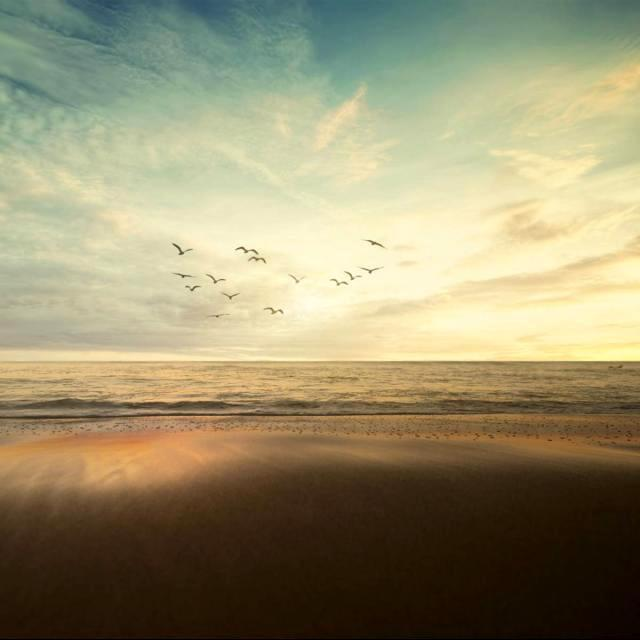bird: (163, 234, 195, 262), (166, 262, 203, 286), (200, 258, 230, 284), (361, 227, 392, 250), (178, 276, 200, 308), (288, 262, 310, 294), (354, 253, 384, 274), (256, 298, 290, 316), (220, 280, 250, 298), (208, 306, 230, 328), (326, 272, 348, 290), (245, 254, 268, 271), (238, 237, 258, 254)
